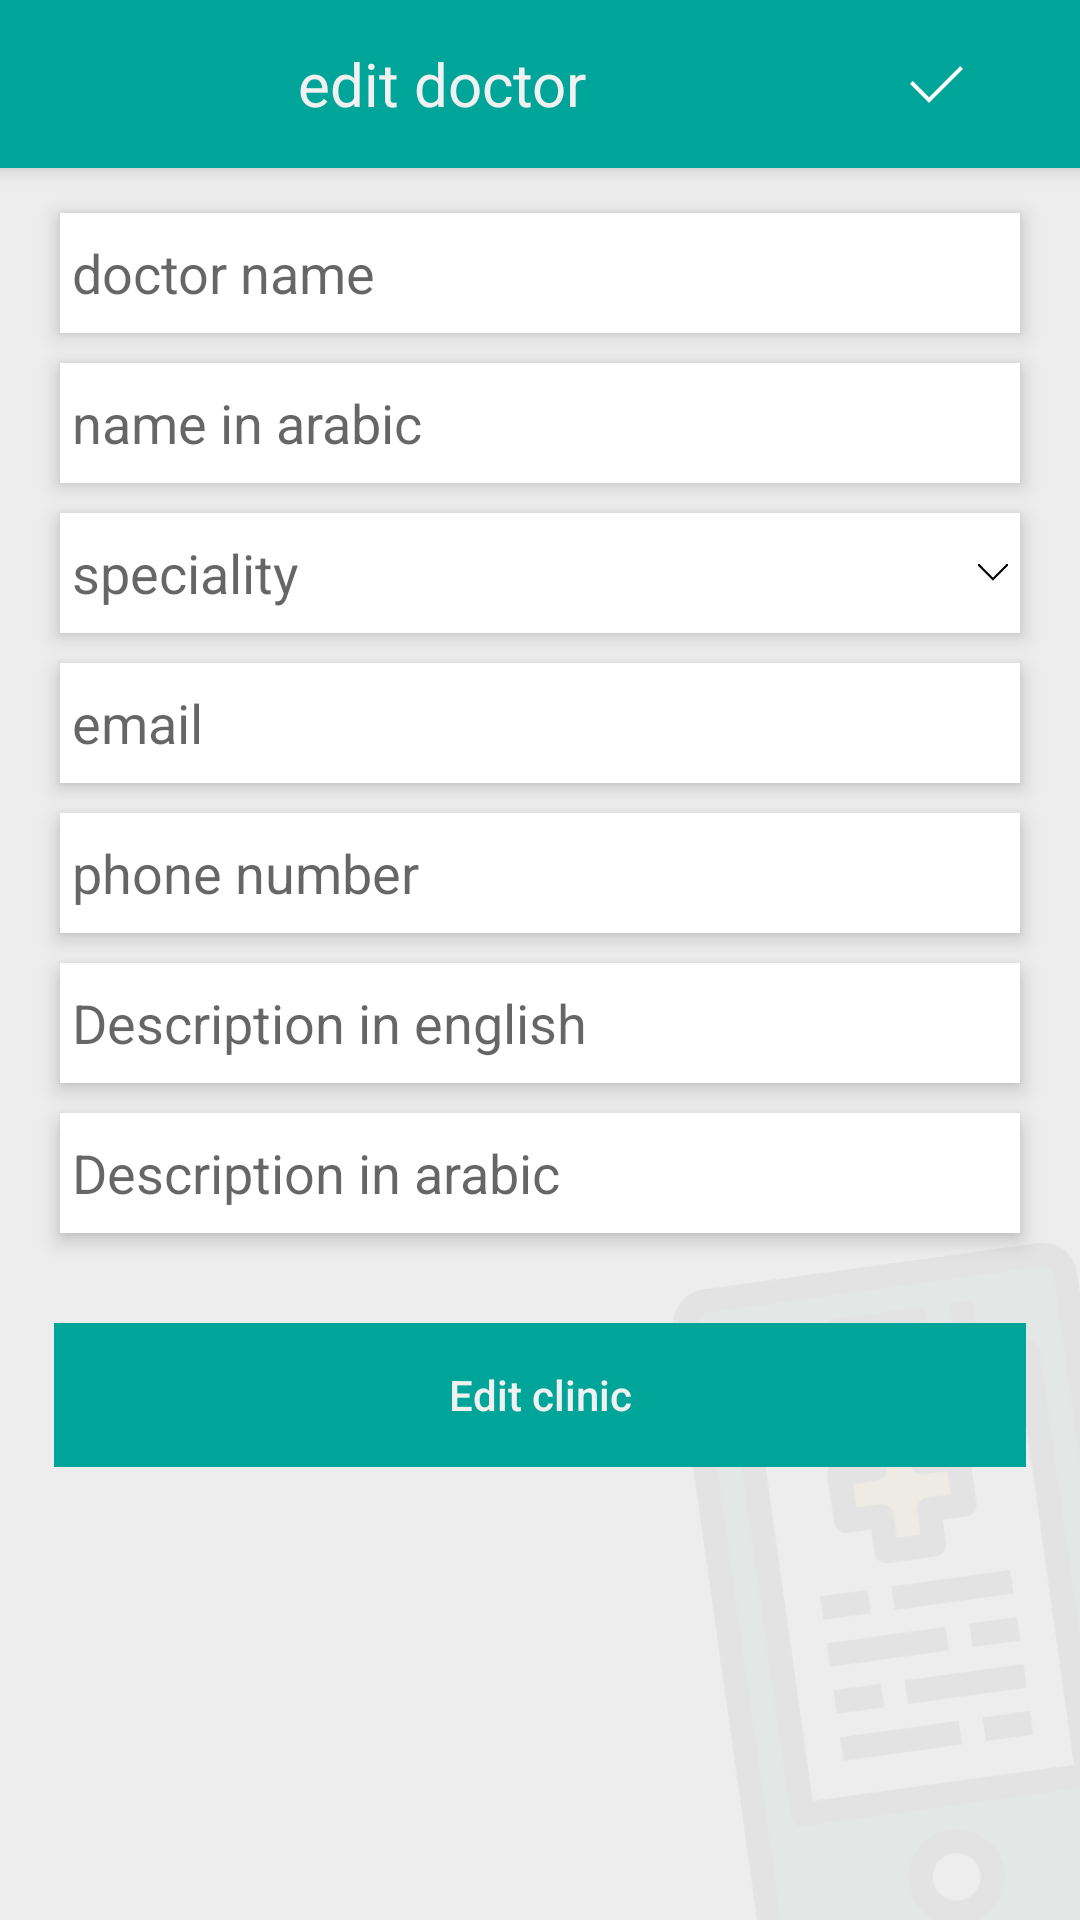

Where icons sit on this 1080px x 1920px app screen, as box=[x1, y1, x2, y2]:
checked: box=[910, 66, 963, 103]
